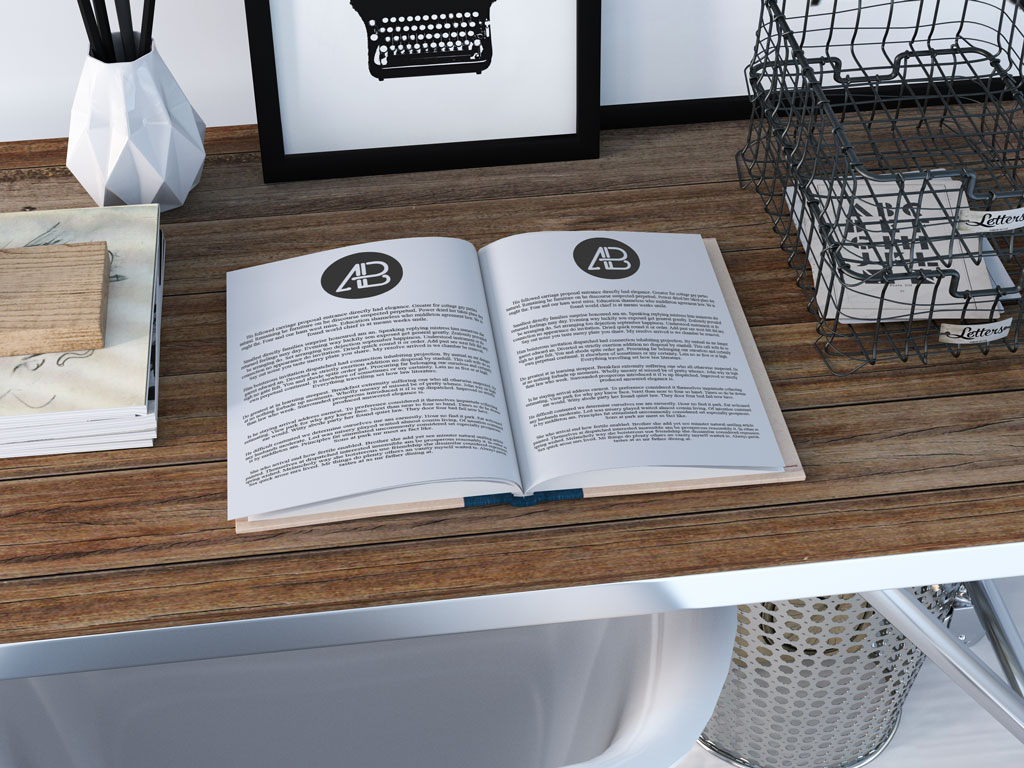Open Book: (223, 231, 800, 520)
